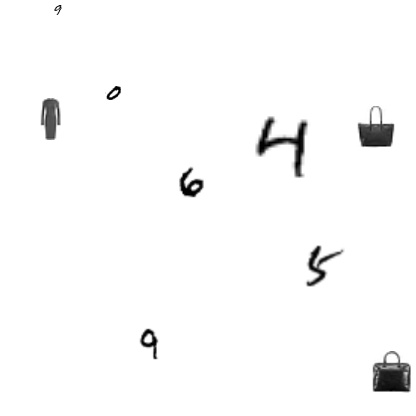0: (103, 82, 125, 104)
4: (241, 99, 325, 183)
5: (289, 236, 345, 292)
6: (169, 164, 211, 206)
9: (128, 320, 170, 362), (51, 2, 65, 16)
Bag: (355, 106, 397, 148), (370, 351, 412, 393)
Dress: (29, 98, 71, 140)
